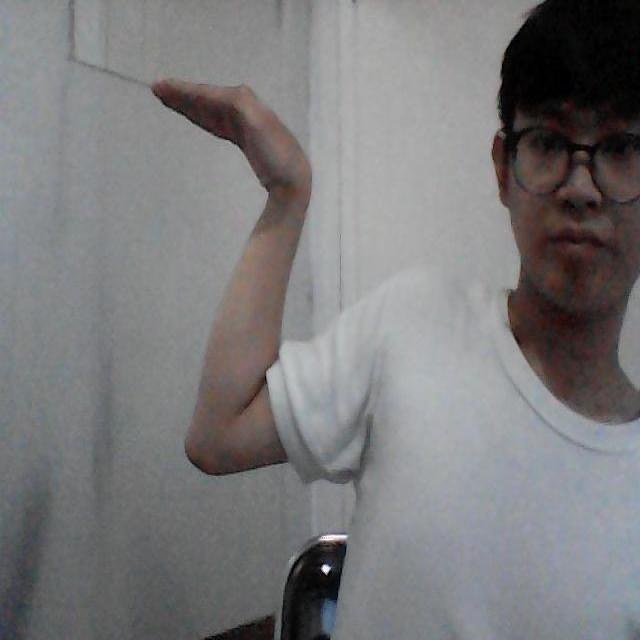Z: (112, 46, 373, 486)
